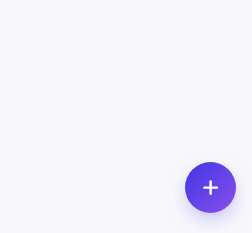
Test: SpeedDialFab › fecha o menu ao selecionar uma ação
Click the button named "Abrir ações" at (210, 188), box left=185, top=162, right=236, bottom=213
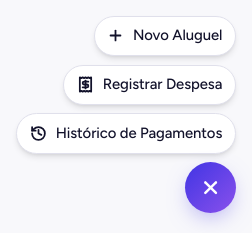
Click the menu item "Registrar Despesa" at (150, 85), box left=63, top=64, right=236, bottom=105
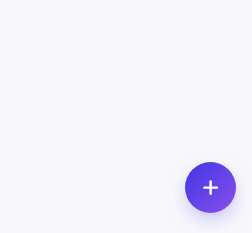
Now the menu is gone
